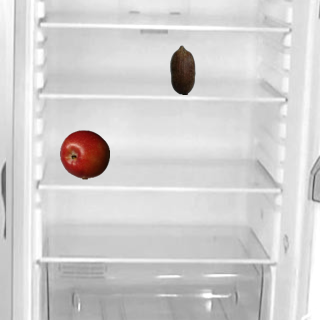Apple Braeburn: (59, 129, 109, 179)
Nut Pecan: (157, 44, 207, 94)
